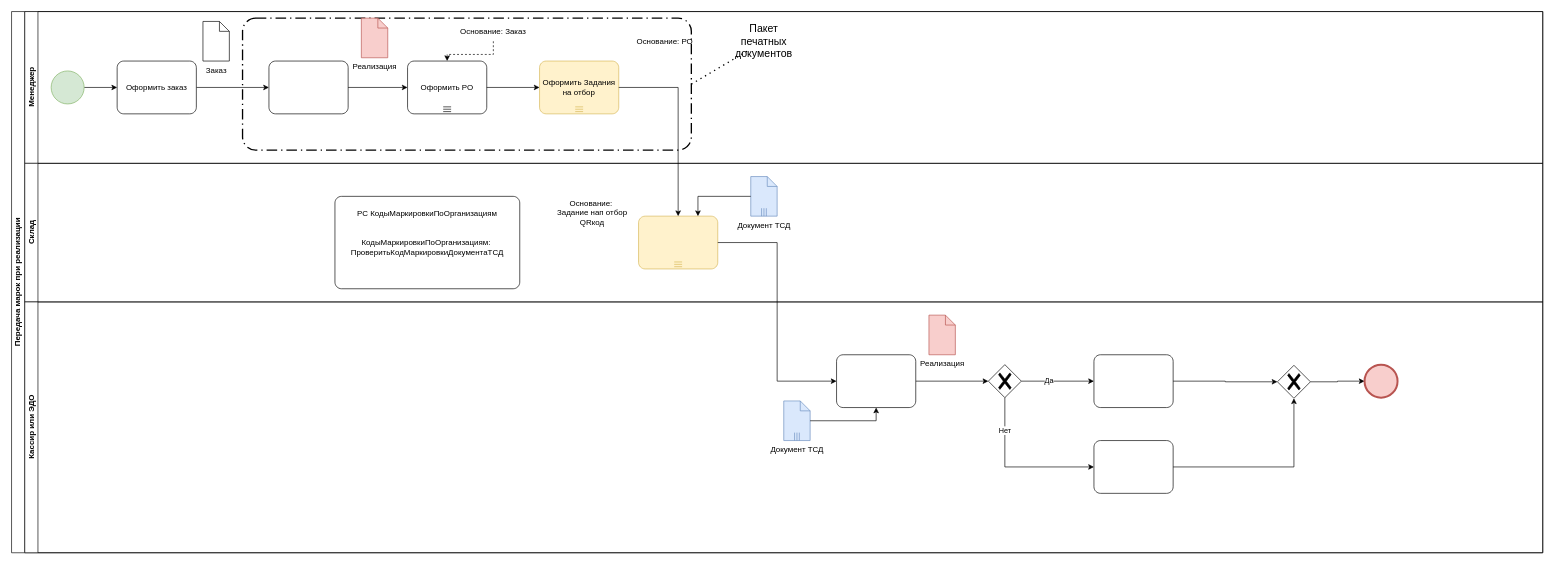
Some shapes in this 1554 by 564 pixel diagram are drawn without their labels. The shapes that lost their labels are listed below. From the top down, each one's centre as x and y in pixels, then its label:
At point 67,87: "Оформить продажу".
At point 308,87: "Оформить реализацию".
At point 678,242: "Отсканировать Товар".
At point 876,381: "Загрузить КМ в Реализацию".
At point 1004,381: "Это касса?".
At point 1133,381: "Оформить Кассовый Чек".
At point 1133,466: "Оформить ЭДО".
